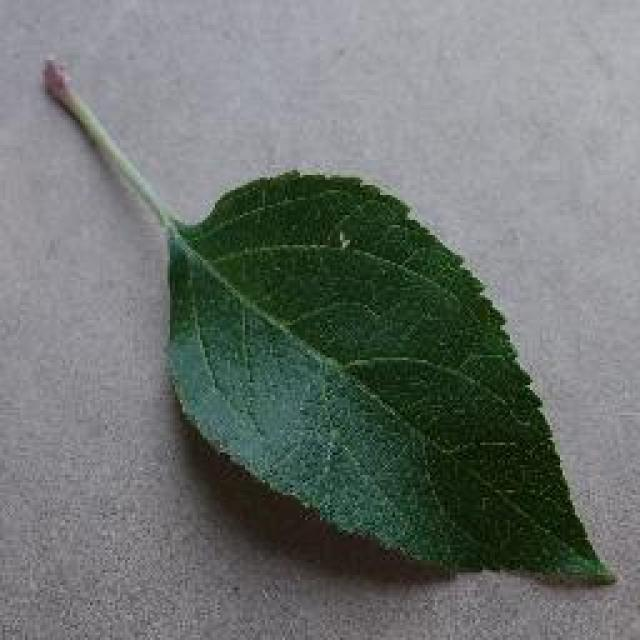apple healthy: (38, 52, 618, 588)
